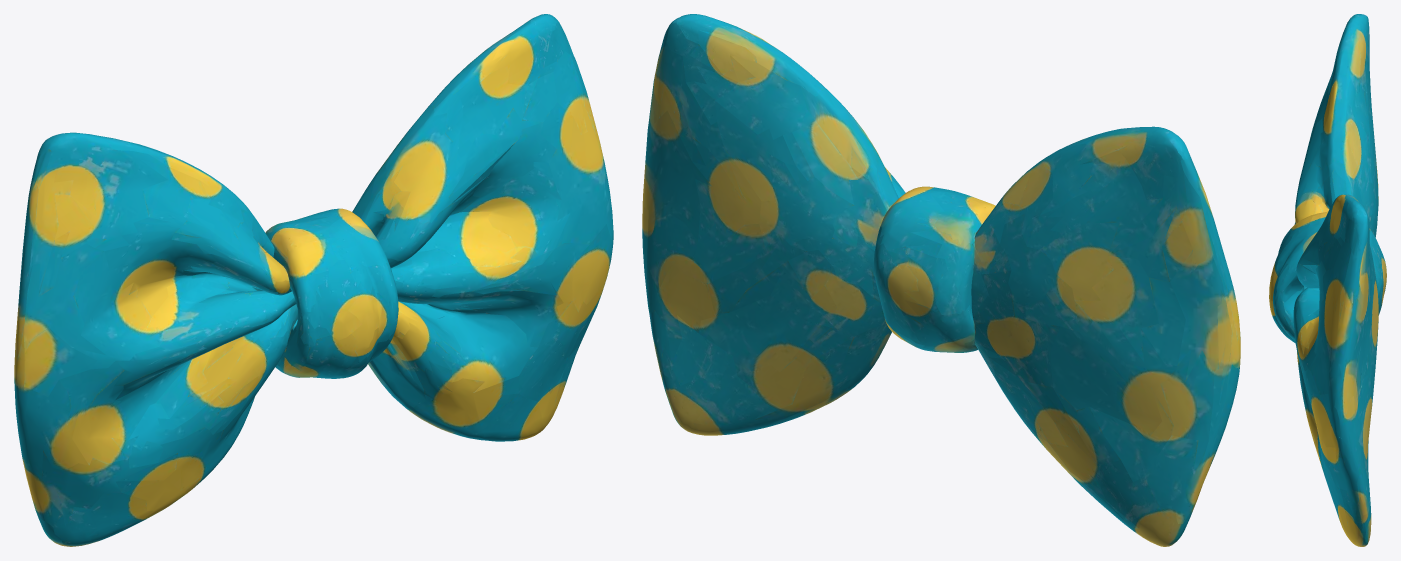
Rendered from polka_bowtie.glb.
The picture shows the model from 3 angles, left to right: view 1: azimuth 30°, elevation 25°; view 2: azimuth 150°, elevation 25°; view 3: azimuth 270°, elevation 25°; orthographic projection. The views are drawn at different scales.
Visible parts, largest first — view 1: Mesh_0; view 2: Mesh_0; view 3: Mesh_0.
Boxes of the visible parts, x1=… form: Mesh_0: x1=14, y1=14, x2=613, y2=546; Mesh_0: x1=642, y1=14, x2=1240, y2=546; Mesh_0: x1=1269, y1=14, x2=1386, y2=546.
Size of the model in its own units: 1 by 0.6693 by 0.2081.
Materials: 1 (1 with a texture image).
